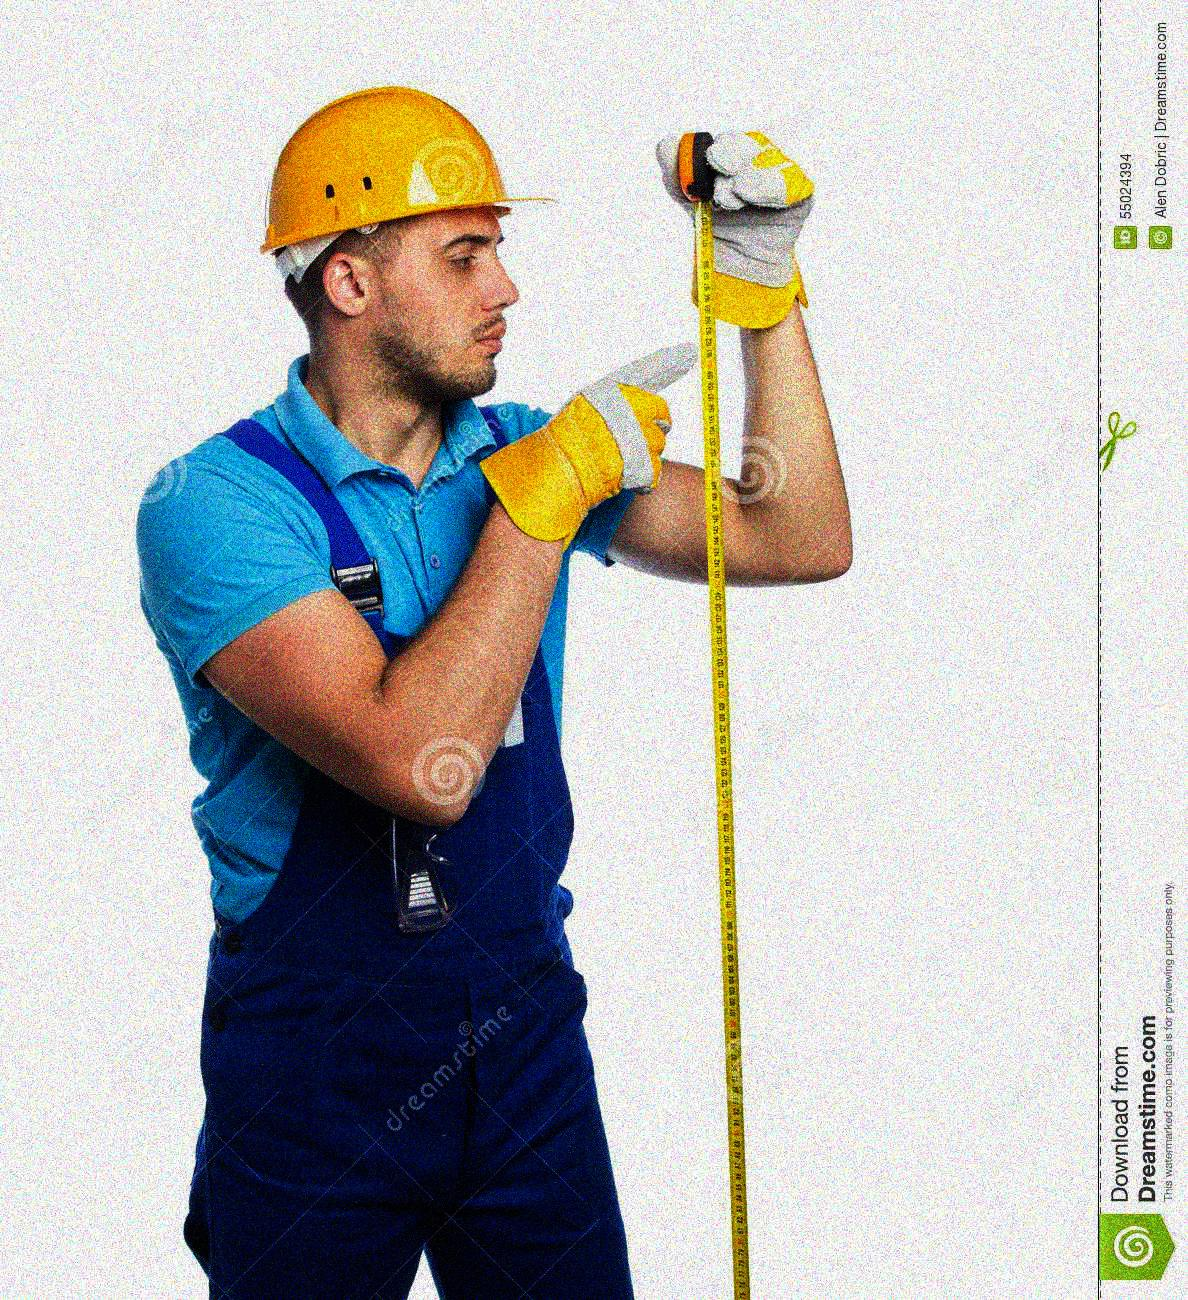helmet: (260, 82, 541, 410)
